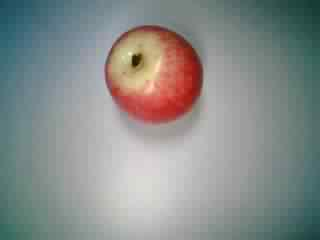apple: (100, 23, 206, 122)
